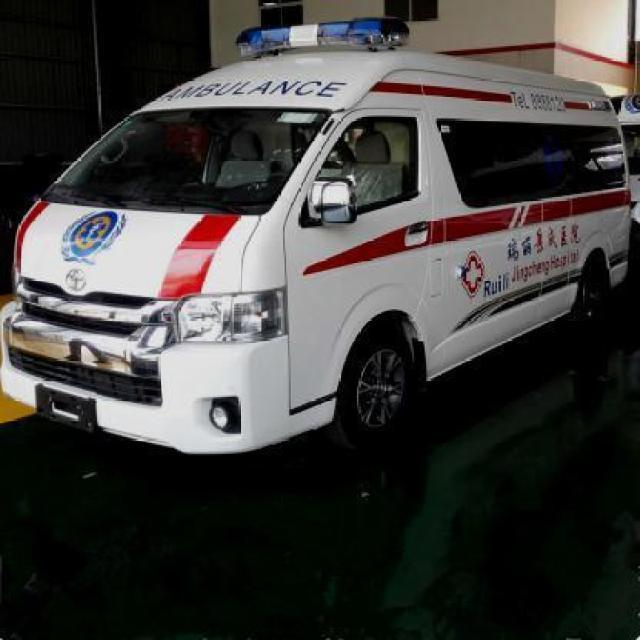emergency: (0, 15, 634, 461)
